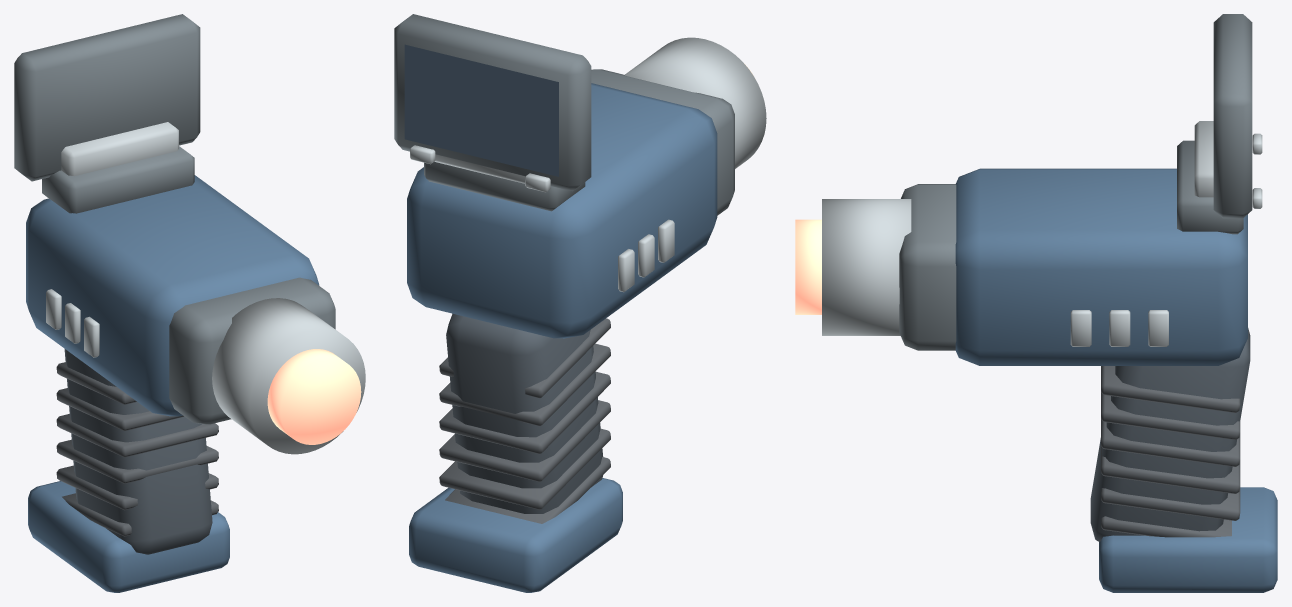
The model's file is demolisher_ultra.glb.
3 views of the same model, side by side, from view 1: azimuth 30°, elevation 25°; view 2: azimuth 150°, elevation 25°; view 3: azimuth 270°, elevation 25° (orthographic). The views are drawn at different scales.
Visible parts, largest first — view 1: ToolBody_navy, LiveViewSurfaceFrame_frame, Grip_black, Ram_steel, Battery_navy, GripRib_rubber, NoseHousing_frame, RamTip_red, DisplayMount_frame, DisplayBracket_steel, HousingVent_steel; view 2: ToolBody_navy, Grip_black, LiveViewSurface_glass, Battery_navy, GripRib_rubber, LiveViewSurfaceFrame_frame, Ram_steel, NoseHousing_frame, DisplayMount_frame, HousingVent_steel, DisplayControls_steel, DisplayBracket_steel; view 3: ToolBody_navy, Grip_black, Battery_navy, GripRib_rubber, Ram_steel, NoseHousing_frame, LiveViewSurfaceFrame_frame, DisplayMount_frame, RamTip_red, HousingVent_steel, DisplayBracket_steel.
Boxes of the visible parts, x1=… form: ToolBody_navy: x1=26, y1=175, x2=319, y2=416; LiveViewSurfaceFrame_frame: x1=14, y1=14, x2=200, y2=181; Grip_black: x1=64, y1=349, x2=212, y2=554; Ram_steel: x1=212, y1=298, x2=365, y2=454; Battery_navy: x1=28, y1=481, x2=229, y2=592; GripRib_rubber: x1=56, y1=362, x2=218, y2=536; NoseHousing_frame: x1=169, y1=277, x2=335, y2=424; RamTip_red: x1=267, y1=349, x2=361, y2=444; DisplayMount_frame: x1=42, y1=146, x2=194, y2=213; DisplayBracket_steel: x1=61, y1=122, x2=178, y2=176; HousingVent_steel: x1=46, y1=289, x2=99, y2=357; ToolBody_navy: x1=407, y1=83, x2=717, y2=338; Grip_black: x1=446, y1=313, x2=603, y2=513; LiveViewSurface_glass: x1=404, y1=44, x2=558, y2=176; Battery_navy: x1=409, y1=478, x2=622, y2=592; GripRib_rubber: x1=439, y1=318, x2=610, y2=523; LiveViewSurfaceFrame_frame: x1=394, y1=14, x2=591, y2=191; Ram_steel: x1=625, y1=37, x2=766, y2=168; NoseHousing_frame: x1=591, y1=69, x2=734, y2=215; DisplayMount_frame: x1=424, y1=162, x2=585, y2=211; HousingVent_steel: x1=618, y1=219, x2=674, y2=292; DisplayControls_steel: x1=410, y1=145, x2=550, y2=192; DisplayBracket_steel: x1=434, y1=154, x2=524, y2=183; ToolBody_navy: x1=955, y1=168, x2=1247, y2=365; Grip_black: x1=1090, y1=328, x2=1250, y2=541; Battery_navy: x1=1099, y1=487, x2=1277, y2=592; GripRib_rubber: x1=1101, y1=366, x2=1240, y2=537; Ram_steel: x1=822, y1=199, x2=911, y2=335; NoseHousing_frame: x1=899, y1=184, x2=956, y2=350; LiveViewSurfaceFrame_frame: x1=1213, y1=14, x2=1252, y2=218; DisplayMount_frame: x1=1177, y1=140, x2=1243, y2=234; RamTip_red: x1=795, y1=219, x2=821, y2=314; HousingVent_steel: x1=1070, y1=310, x2=1168, y2=346; DisplayBracket_steel: x1=1194, y1=121, x2=1213, y2=197.
Size of the model in its own units: 0.371 by 0.95 by 0.81.
